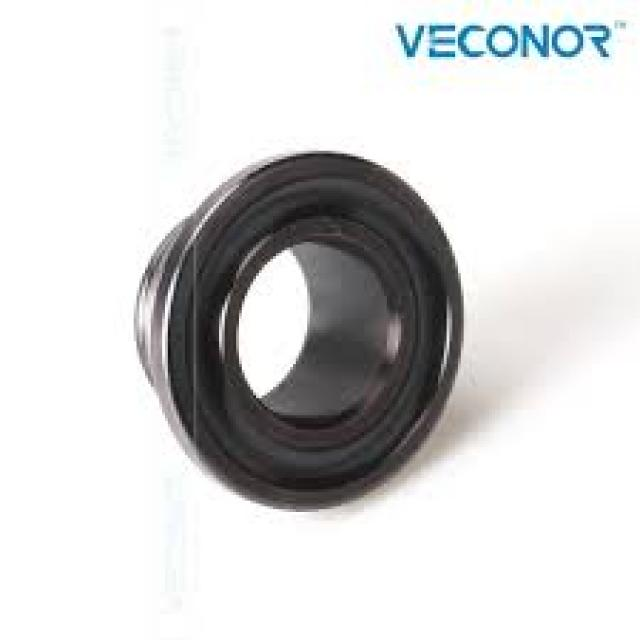Turning: (98, 130, 476, 542)
